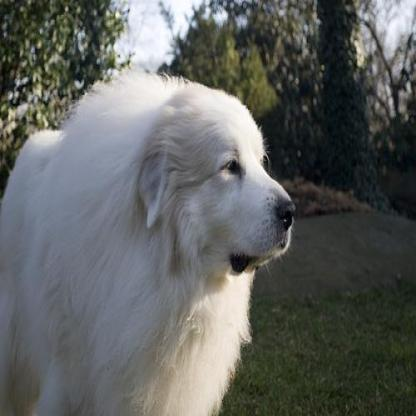Great_Pyrenees: (0, 74, 297, 414)
